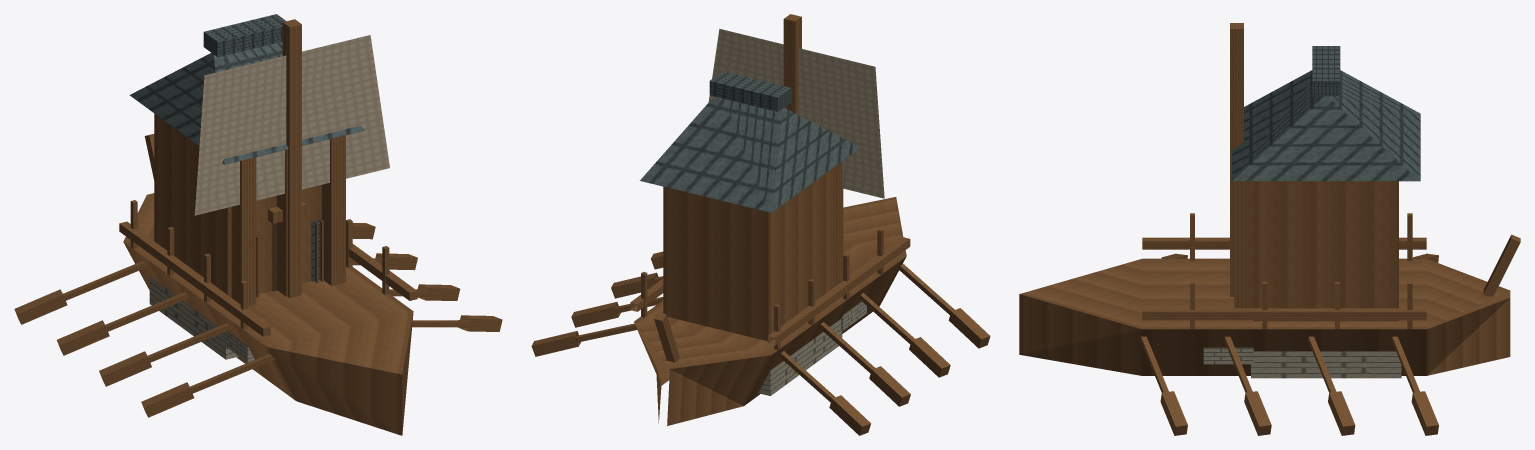
Rendered from unit-WARSHIP-lod0.glb.
3 renders of one model, left to right at view 1: azimuth 30°, elevation 25°; view 2: azimuth 150°, elevation 25°; view 3: azimuth 270°, elevation 25°, orthographic. The views are drawn at different scales.
Size of the model in its own units: 0.7343 by 0.65 by 0.8982.
1 material, 1 textured.
